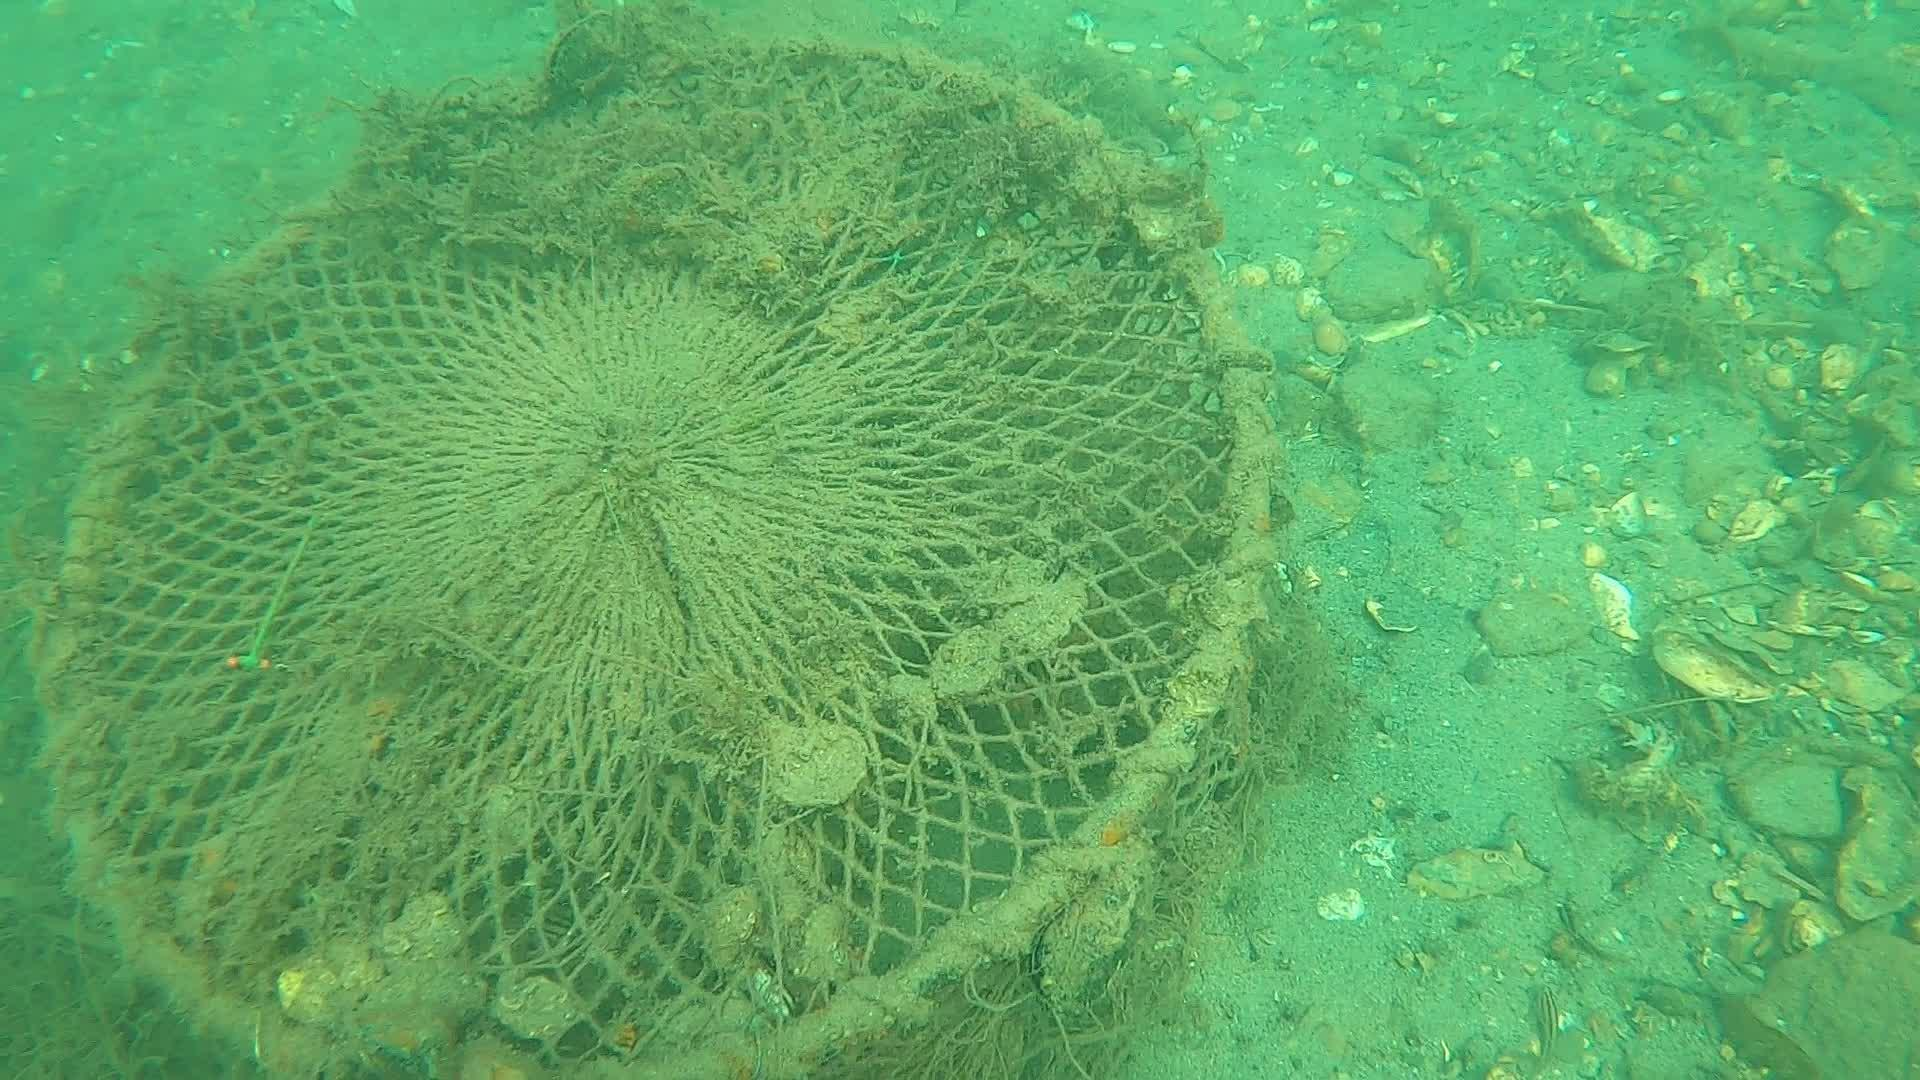circular fish trap: (34, 29, 1294, 1080)
